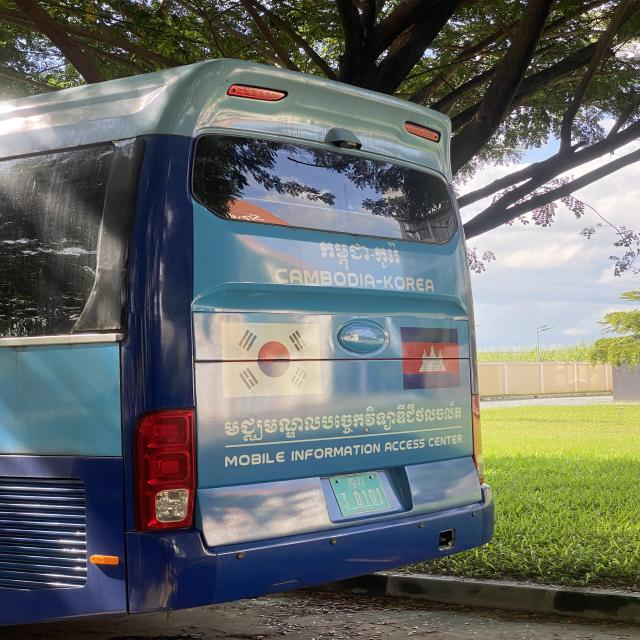Yolov11kh: (223, 396, 465, 448), (314, 234, 408, 273)
